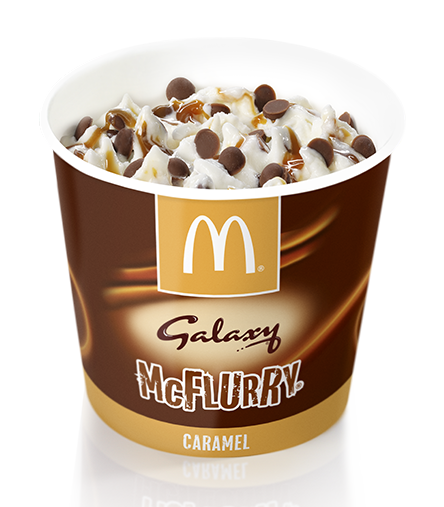mcdonalds: (178, 212, 258, 286)
